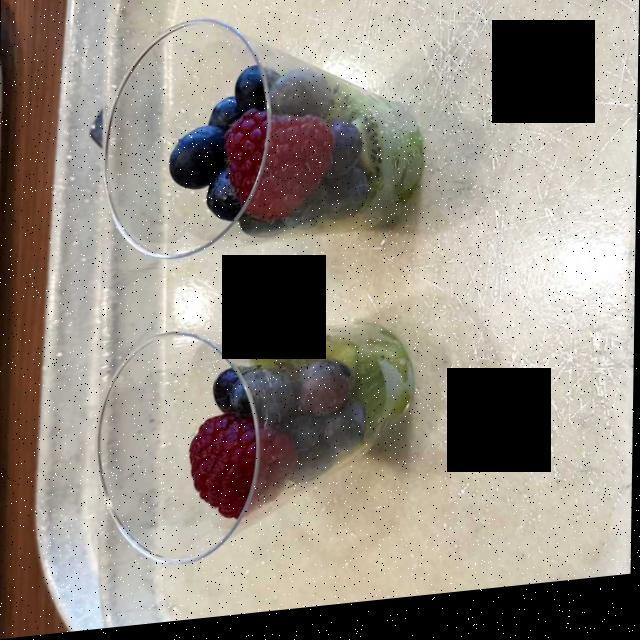fruit-salad: (144, 66, 448, 546)
raspberries: (221, 100, 341, 223), (186, 408, 299, 528)
